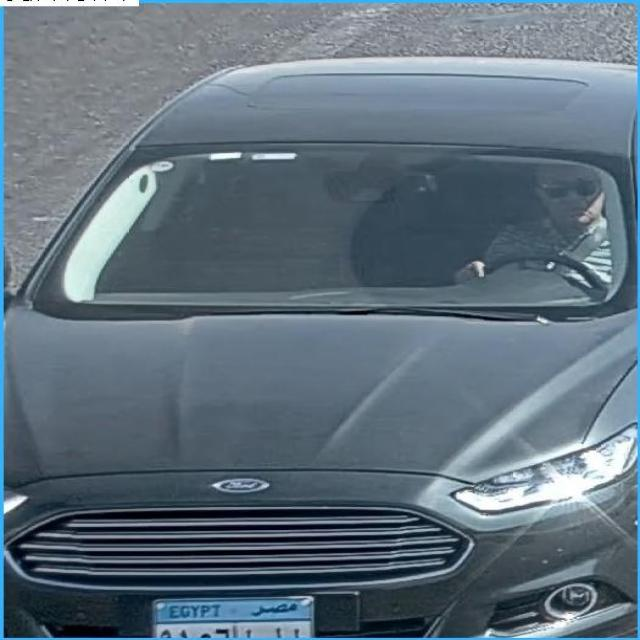Seat_belt: (432, 152, 622, 322)
